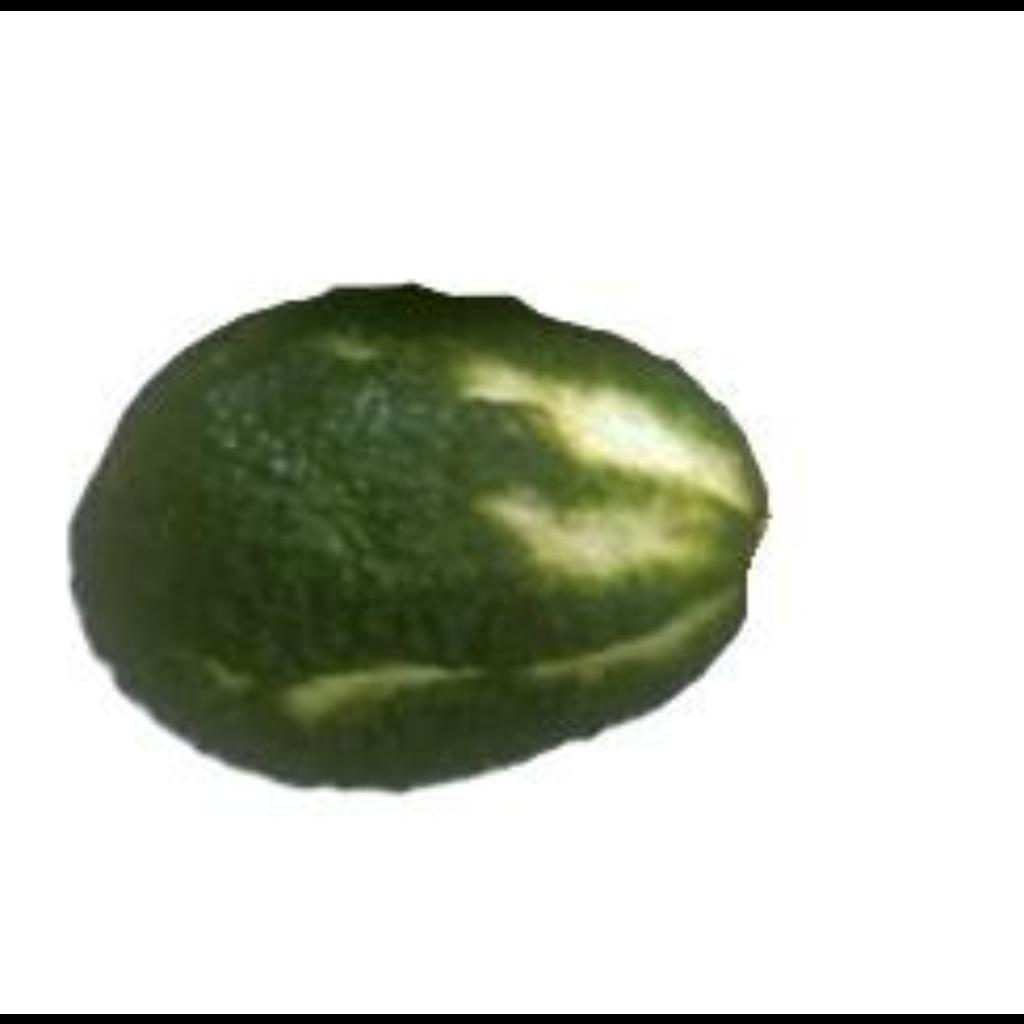sunblotch: (52, 272, 774, 798)
